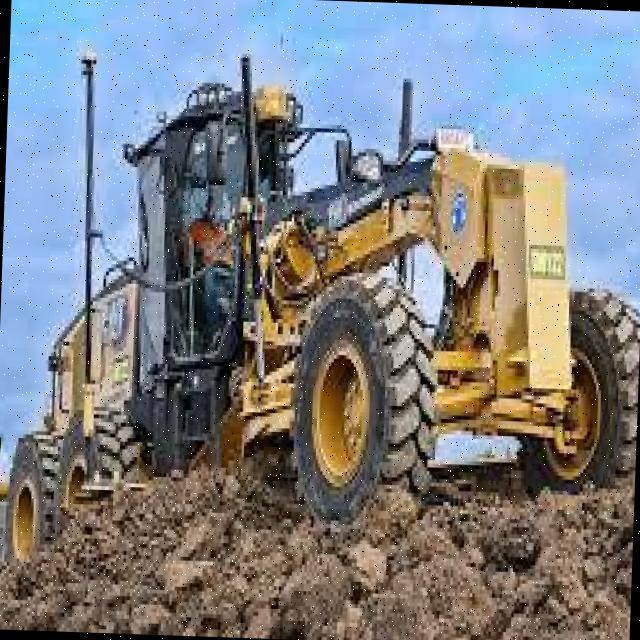Grader: (0, 23, 640, 576)
